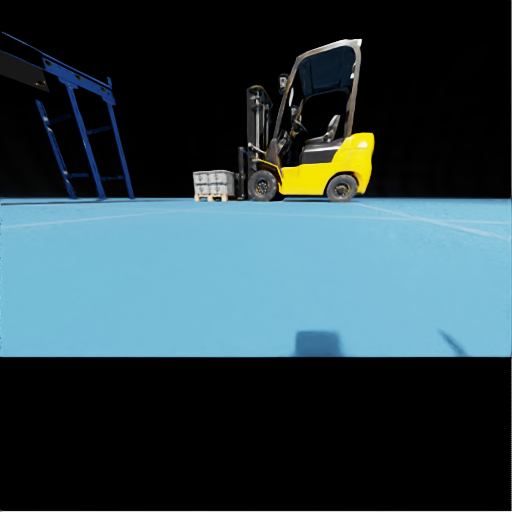transportation_area: (209, 183, 238, 194), (217, 193, 220, 196)
